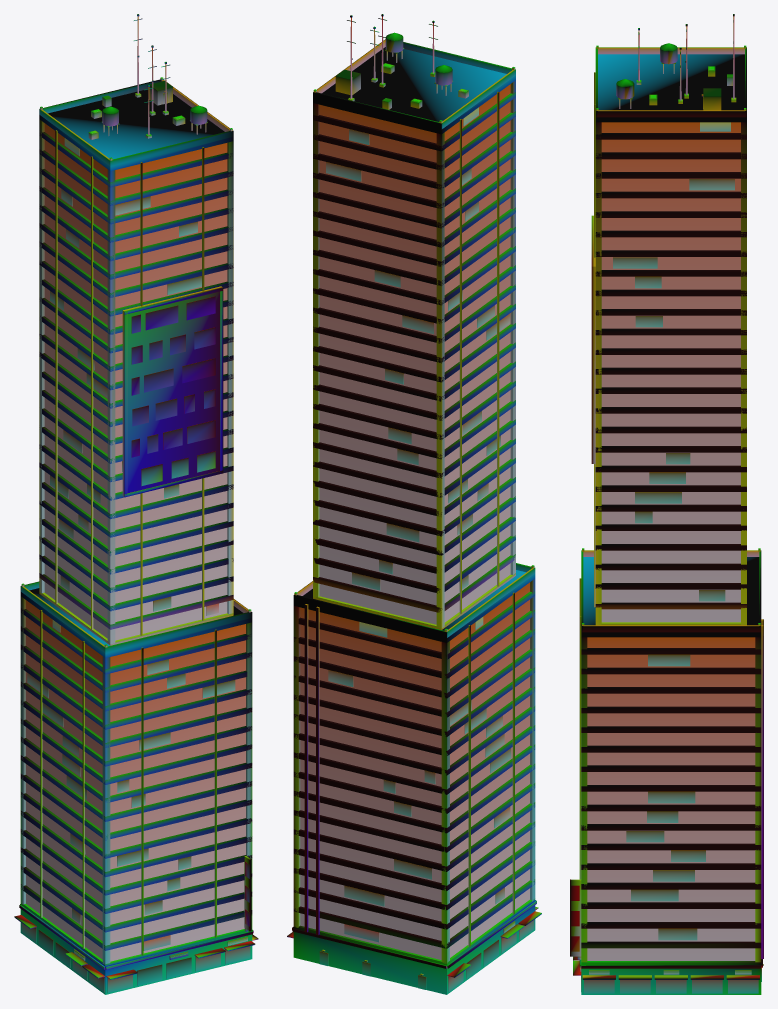
File: Tower_Pad_V10.fbx
3 renders of one model, left to right at view 1: azimuth 30°, elevation 25°; view 2: azimuth 150°, elevation 25°; view 3: azimuth 270°, elevation 25°, orthographic. The views are drawn at different scales.
Parts seen in each view (by area): view 1: Tower_Pad_V10_LOD0; view 2: Tower_Pad_V10_LOD0; view 3: Tower_Pad_V10_LOD0.
Part boxes in pixels (x1=…): Tower_Pad_V10_LOD0: x1=14, y1=14, x2=258, y2=994; Tower_Pad_V10_LOD0: x1=287, y1=14, x2=541, y2=994; Tower_Pad_V10_LOD0: x1=570, y1=14, x2=763, y2=994.
Size of what is drawn, in the model's own units: 32.8 by 176 by 32.31.
